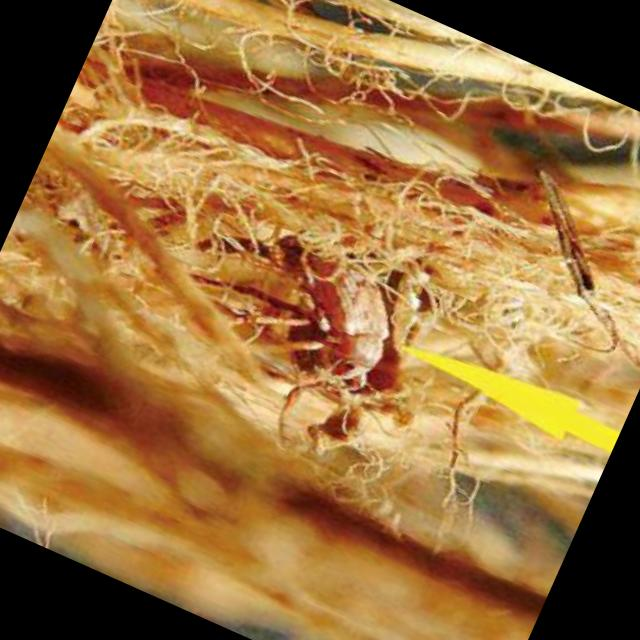rice-bug: (237, 218, 433, 416)
